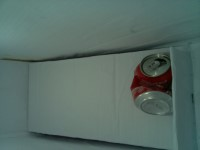kaleng: (129, 53, 173, 116)
